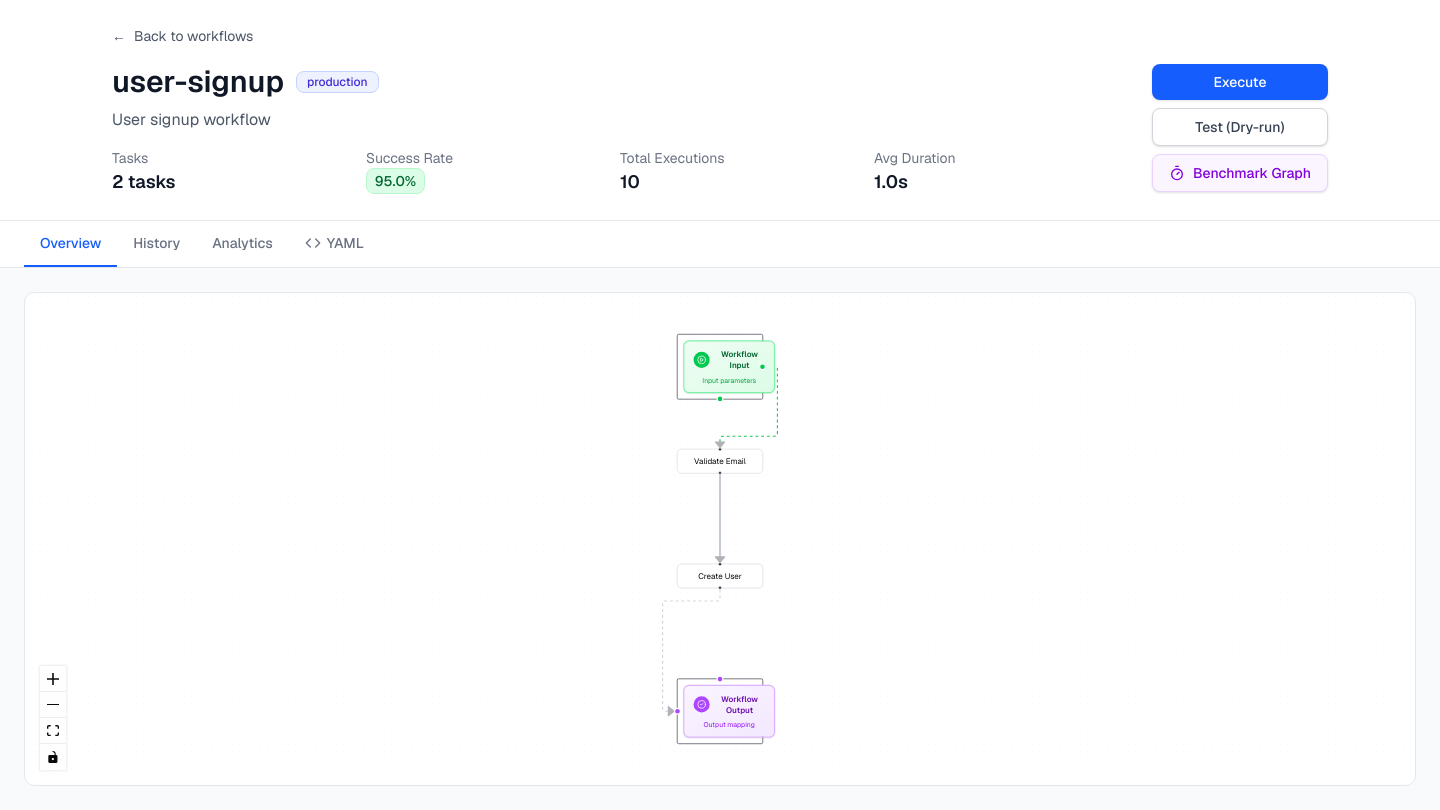
Test case: WorkflowDetailTabs › YAML Tab › shows loading spinner when versions are loading
The width and height of the screenshot is (1440, 810).
Click the tab "YAML": (334, 244) [289,221,380,267]
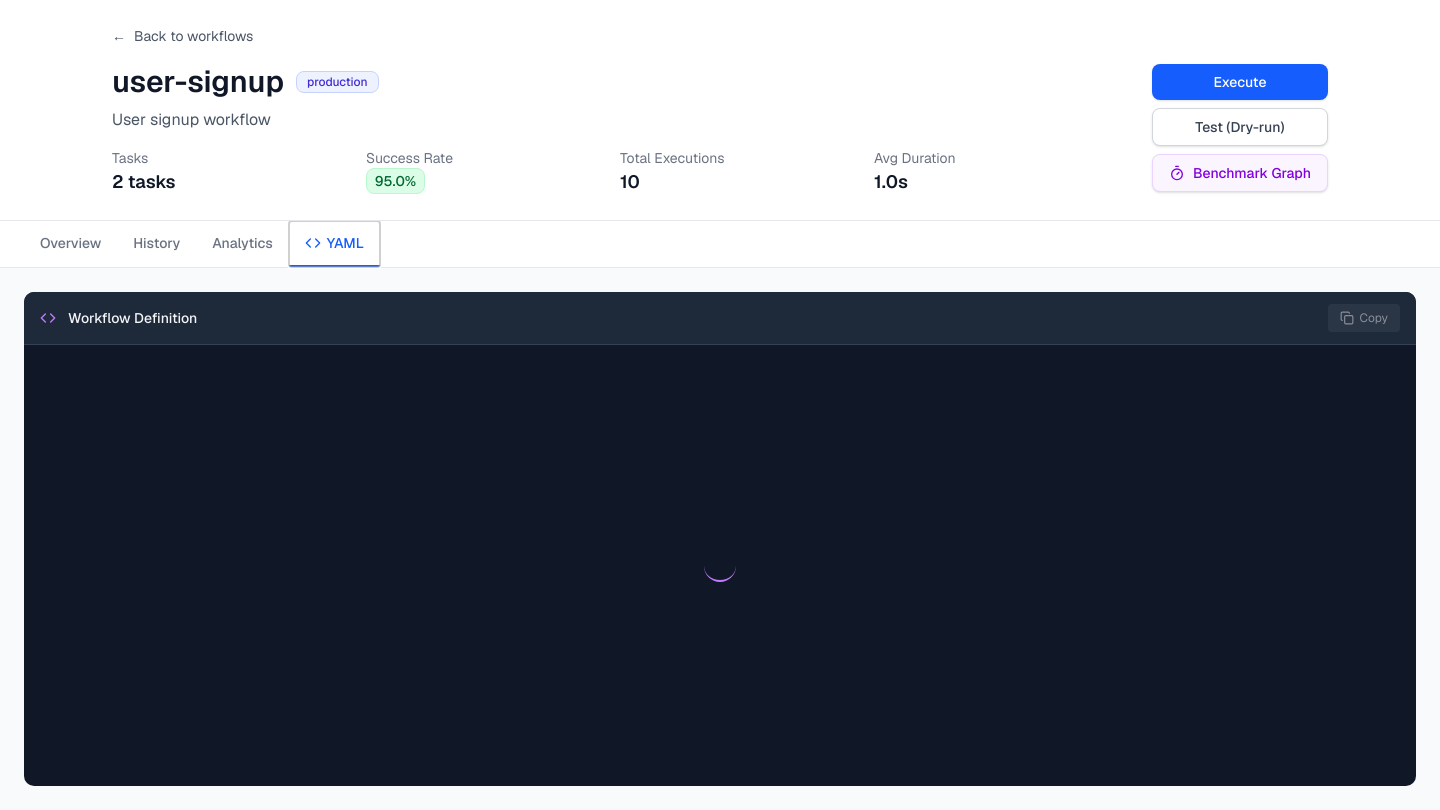
Now the element with class "animate-spin" is shown, box [704,550,736,582]
